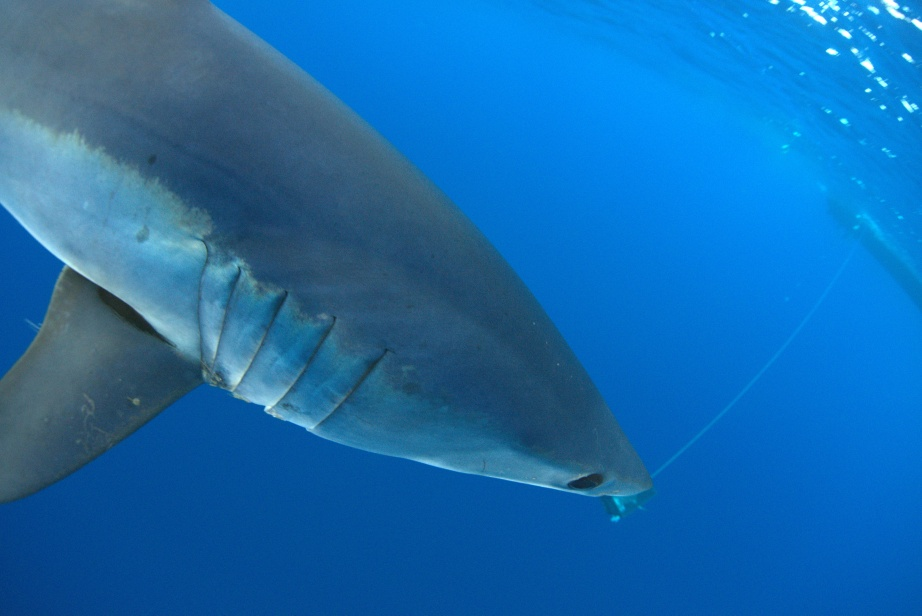Mako: (1, 1, 667, 547)
